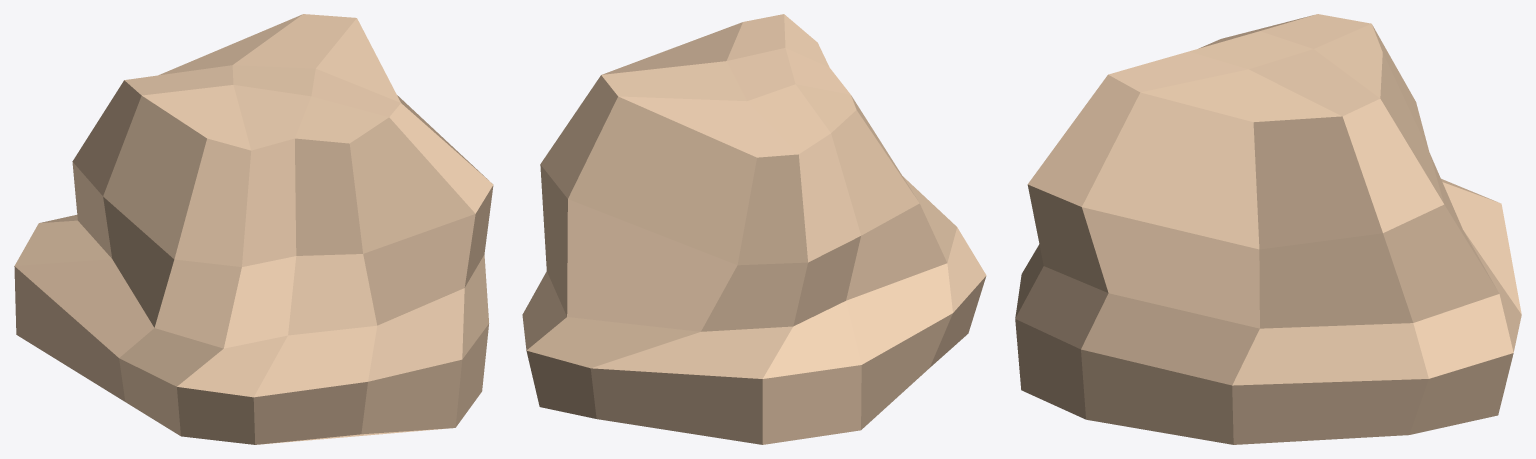
The model's file is PedraUm.fbx.
The picture shows the model from 3 angles, left to right: view 1: azimuth 30°, elevation 25°; view 2: azimuth 150°, elevation 25°; view 3: azimuth 270°, elevation 25°; orthographic projection. The views are drawn at different scales.
Parts seen in each view (by area): view 1: BigRock1.003; view 2: BigRock1.003; view 3: BigRock1.003.
Part boxes in pixels (<box>): BigRock1.003: <box>14,14,493,444</box>; BigRock1.003: <box>522,14,986,444</box>; BigRock1.003: <box>1015,14,1521,444</box>.
Size of the model in its own units: 17.1 by 12.71 by 18.94.
